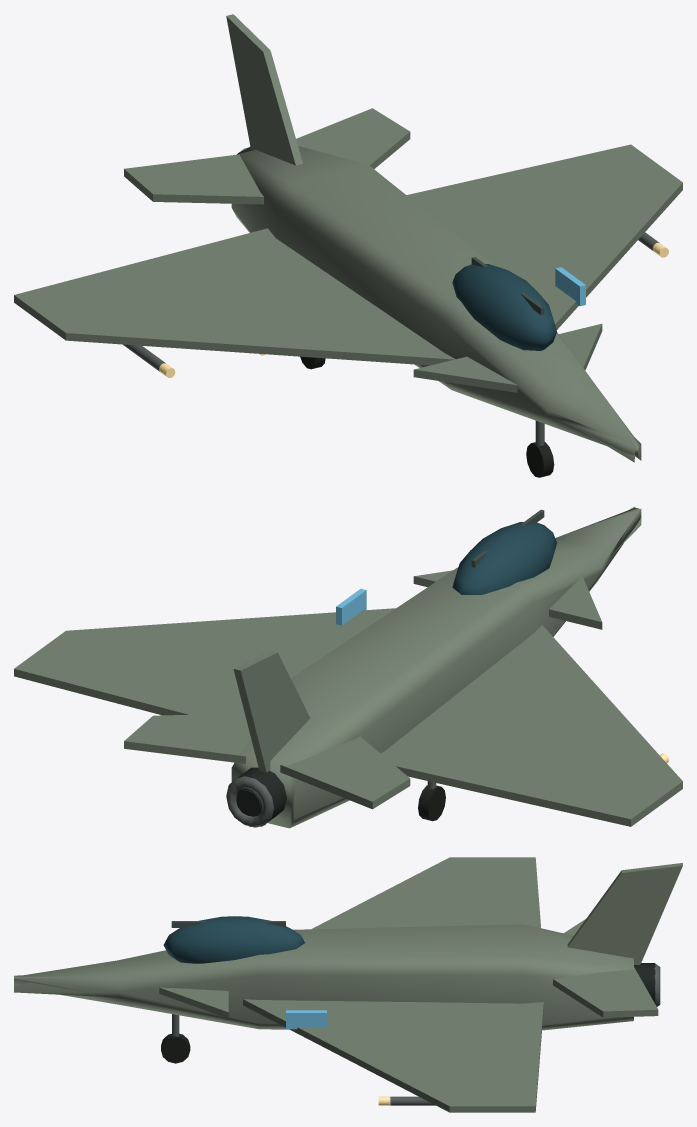
Rendered from multirole.glb.
3 renders of one model, top to bottom at view 1: azimuth 30°, elevation 25°; view 2: azimuth 150°, elevation 25°; view 3: azimuth 270°, elevation 25°, orthographic. The views are drawn at different scales.
Parts seen in each view (by area): view 1: armor, glass, rubber, marking; view 2: armor, glass, dark, steel, rubber, marking; view 3: armor, glass, marking, rubber, steel, dark.
Boxes of the visible parts, x1,y1,x2,y2 form: armor: (14,14,682,462); glass: (452,264,556,350); rubber: (300,356,554,477); marking: (555,267,585,306); armor: (14,506,682,828); glass: (452,522,556,594); dark: (229,767,286,826); steel: (226,776,273,827); rubber: (418,785,445,821); marking: (336,588,366,625); armor: (14,857,682,1112); glass: (163,916,304,963); marking: (286,1010,326,1029); rubber: (161,1033,190,1063); steel: (390,963,660,1105); dark: (634,963,655,1002).
Bounding box in the file's own units: 7.2 × 2.64 × 8.17.
